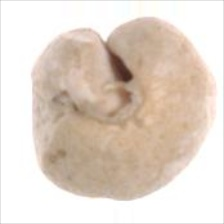L3: (53, 38, 145, 124)
L4: (31, 17, 217, 202)
